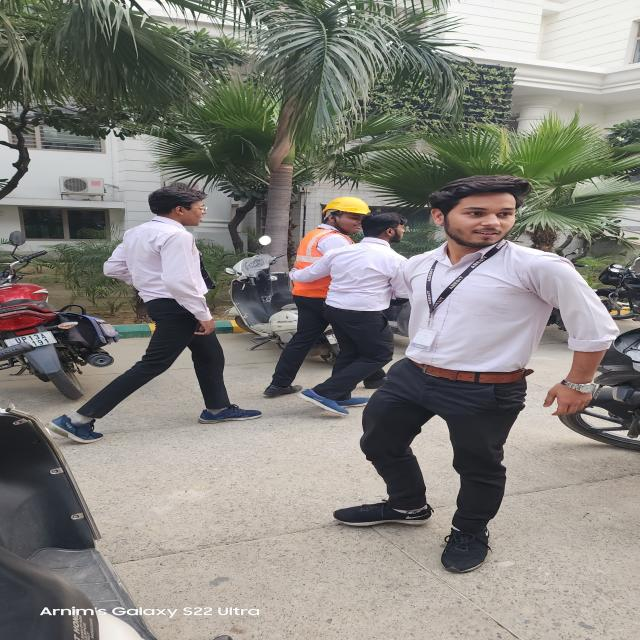safe: (270, 196, 366, 399)
unsafe: (375, 174, 617, 525), (66, 183, 264, 444), (323, 212, 409, 418)
